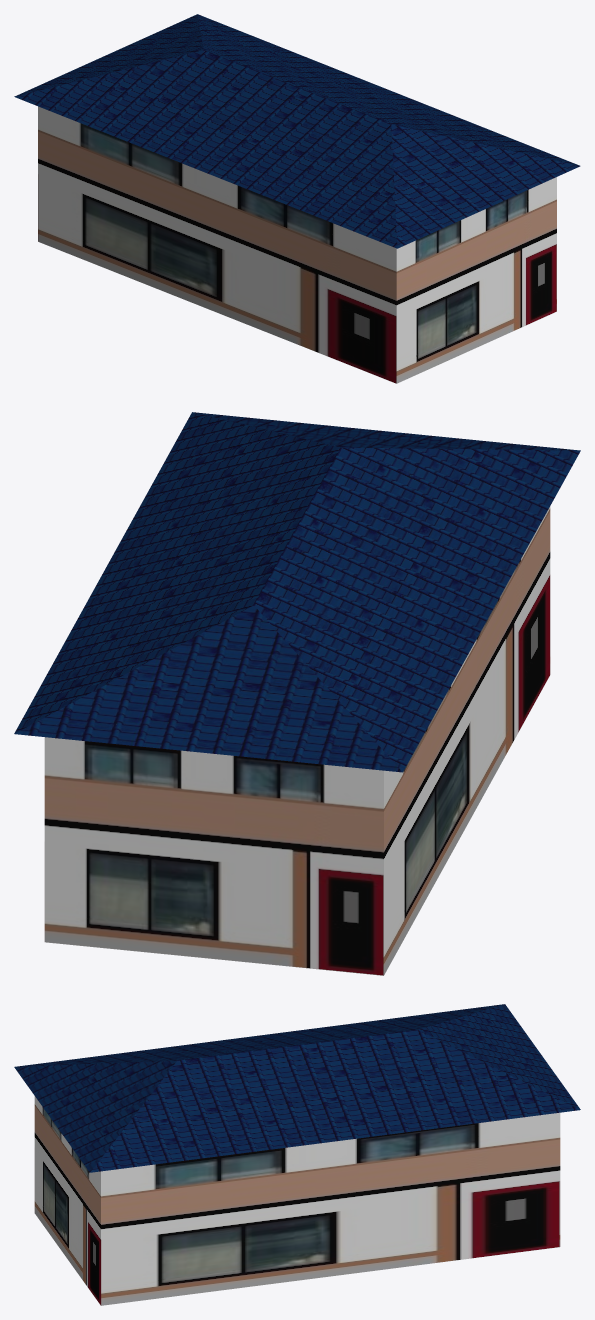
3 renders of one model, top to bottom at view 1: azimuth 30°, elevation 25°; view 2: azimuth 150°, elevation 25°; view 3: azimuth 270°, elevation 25°, orthographic. The views are drawn at different scales.
Visible parts, largest first — view 1: CityEngineMaterial_5_m, CityEngineMaterial_6_m; view 2: CityEngineMaterial_6_m, CityEngineMaterial_5_m; view 3: CityEngineMaterial_5_m, CityEngineMaterial_6_m.
Boxes of the visible parts, bbox=[...] form: CityEngineMaterial_5_m: bbox=[38, 106, 556, 383]; CityEngineMaterial_6_m: bbox=[14, 14, 580, 248]; CityEngineMaterial_6_m: bbox=[14, 412, 580, 772]; CityEngineMaterial_5_m: bbox=[44, 506, 550, 975]; CityEngineMaterial_5_m: bbox=[34, 1096, 560, 1305]; CityEngineMaterial_6_m: bbox=[14, 1004, 580, 1172].
Bounding box in the file's own units: 22.53 × 11.52 × 31.99.
